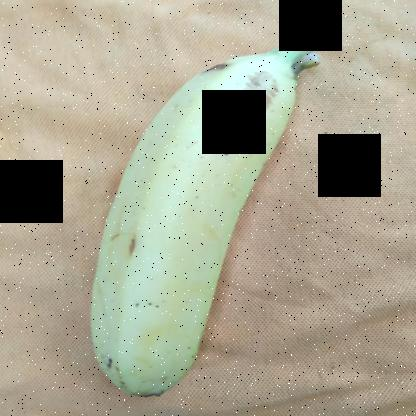ripe: (72, 51, 306, 400)
